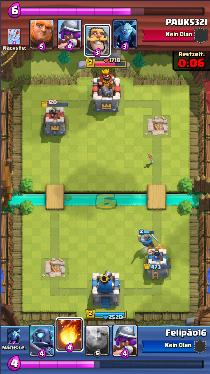ally_knight: (137, 232, 155, 247)
